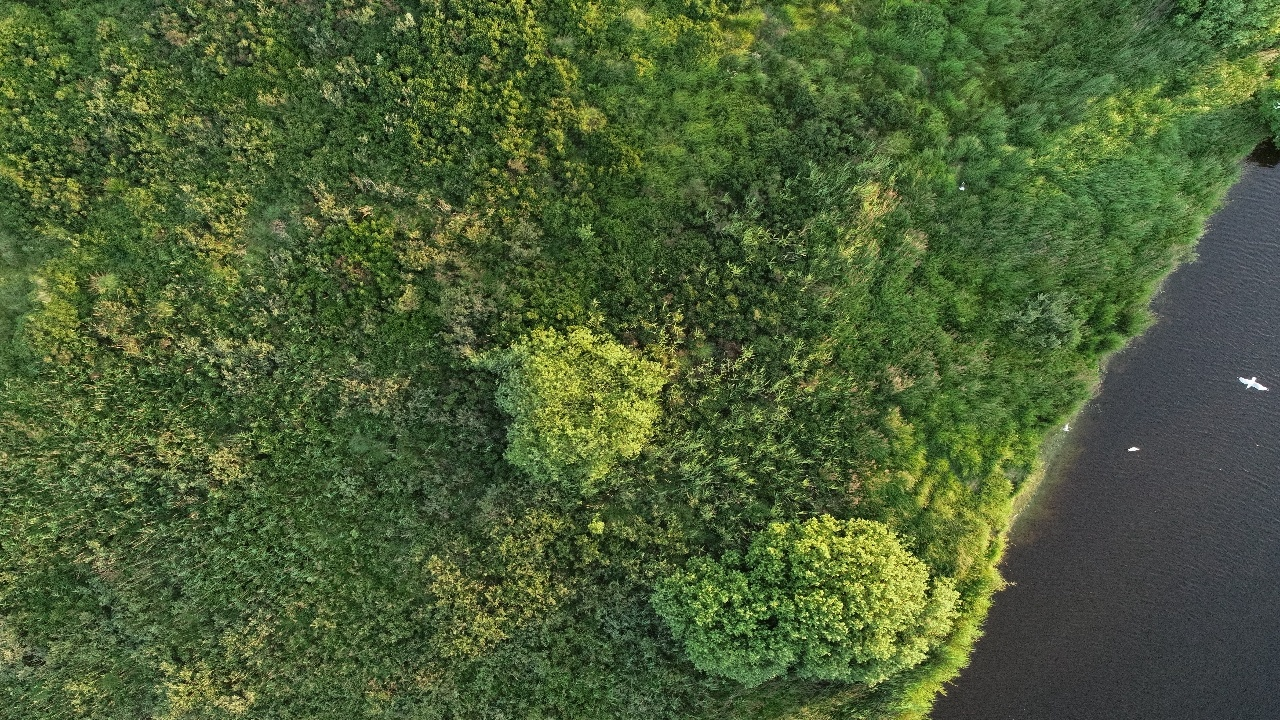Bird: (1235, 369, 1271, 400), (1125, 440, 1147, 460), (1056, 418, 1078, 438), (950, 177, 972, 197)
